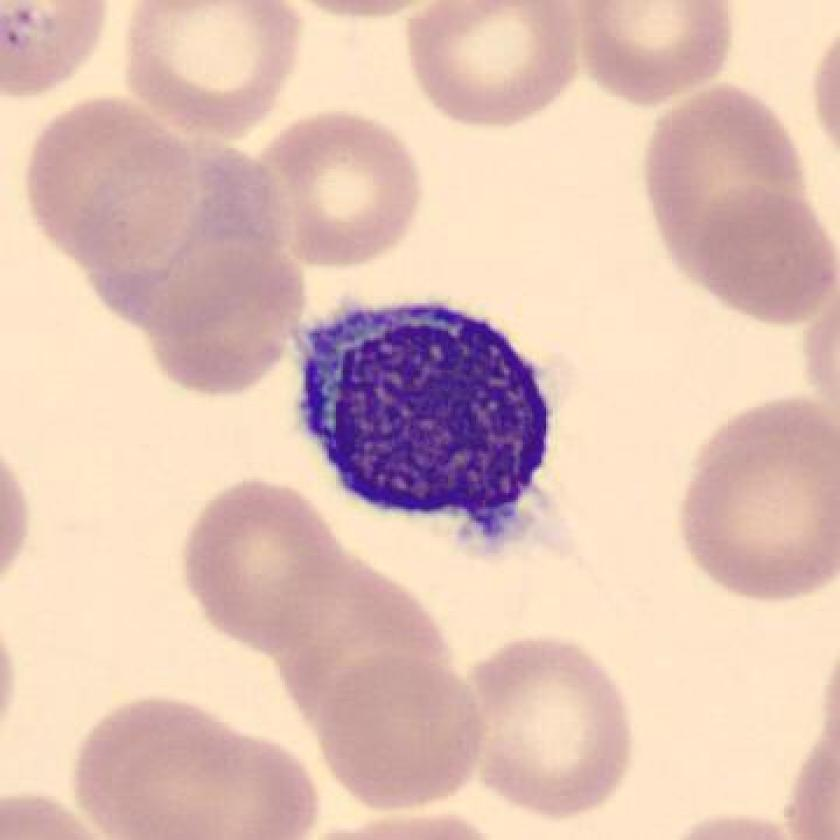lymphocyte: (283, 279, 589, 580)
